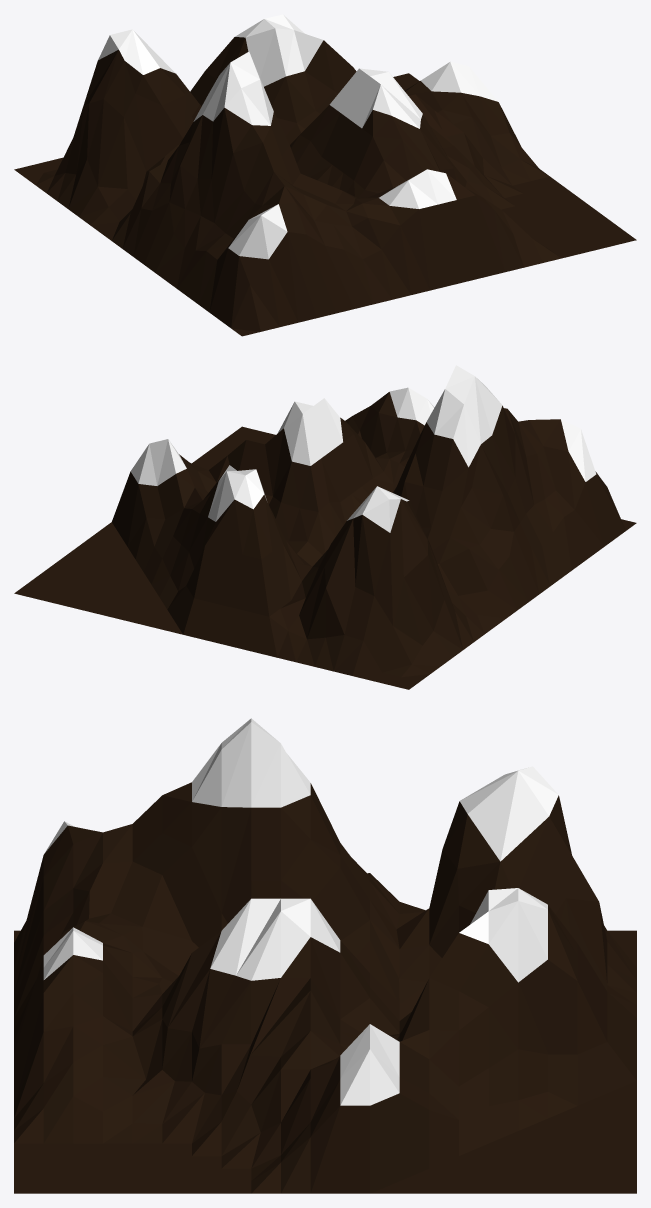
The model's file is Гора3.FBX.
3 views of the same model, one above another, from view 1: azimuth 30°, elevation 25°; view 2: azimuth 150°, elevation 25°; view 3: azimuth 270°, elevation 25° (orthographic). The views are drawn at different scales.
Parts seen in each view (by area): view 1: Плоскость; view 2: Плоскость; view 3: Плоскость.
Part boxes in pixels (bbox=[...]): Плоскость: bbox=[14, 14, 636, 336]; Плоскость: bbox=[14, 365, 636, 689]; Плоскость: bbox=[14, 718, 636, 1193].
Bounding box in the file's own units: 630 × 303 × 630.
